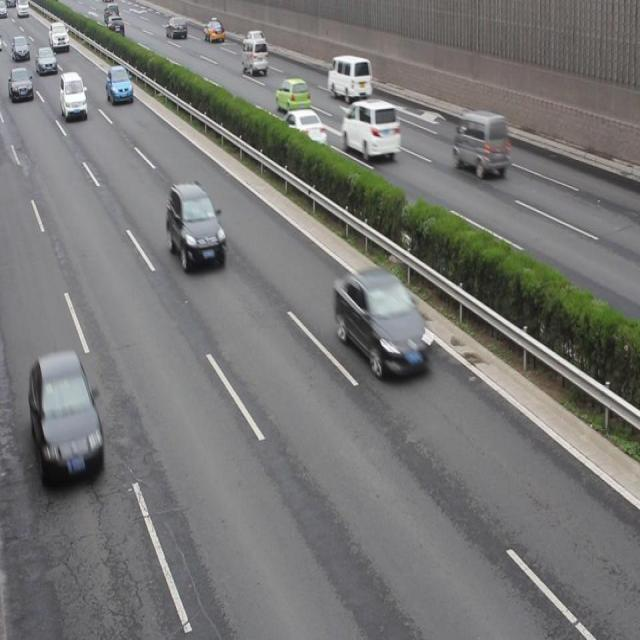car: (333, 267, 433, 379), (30, 354, 104, 484), (166, 179, 226, 271), (342, 101, 399, 160), (281, 109, 326, 148), (275, 77, 309, 113), (60, 74, 87, 118), (106, 65, 132, 102), (10, 68, 34, 98), (36, 46, 58, 74), (243, 28, 267, 51), (204, 18, 224, 41), (166, 16, 186, 37), (12, 37, 30, 58)
truck: (453, 112, 508, 176), (328, 54, 372, 99), (242, 41, 266, 74)
